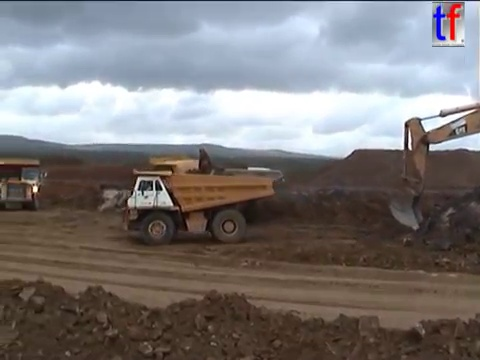excavator: (386, 100, 480, 232)
truck: (117, 167, 275, 245), (140, 152, 284, 226), (1, 156, 49, 212)
